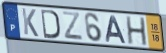6: (84, 12, 104, 44)
A: (105, 15, 128, 45)
D: (40, 8, 62, 41)
H: (125, 16, 149, 48)
K: (21, 7, 40, 39)
Z: (61, 11, 85, 42)
